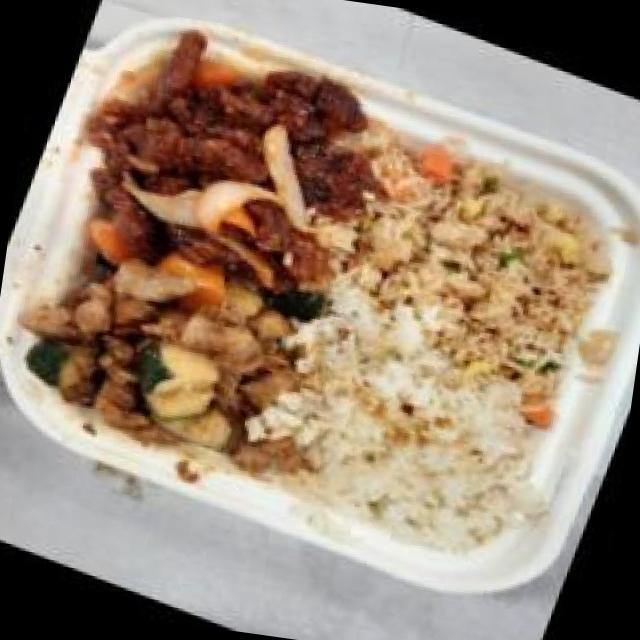Beijing Beef: (54, 0, 422, 316)
Fried Rice: (315, 122, 635, 408)
Kung Pao Chicken: (0, 203, 335, 492)
White Steamed Rice: (258, 308, 568, 580)
